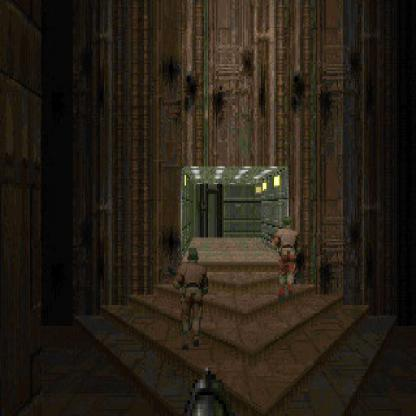gun: (170, 366, 255, 414)
